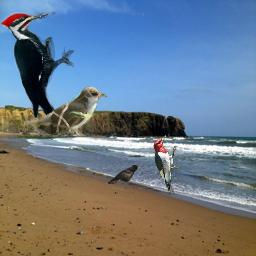Crow: (108, 164, 140, 184)
Cuckoo: (24, 86, 107, 136)
Woodpecker: (1, 10, 74, 135), (153, 135, 178, 195)
